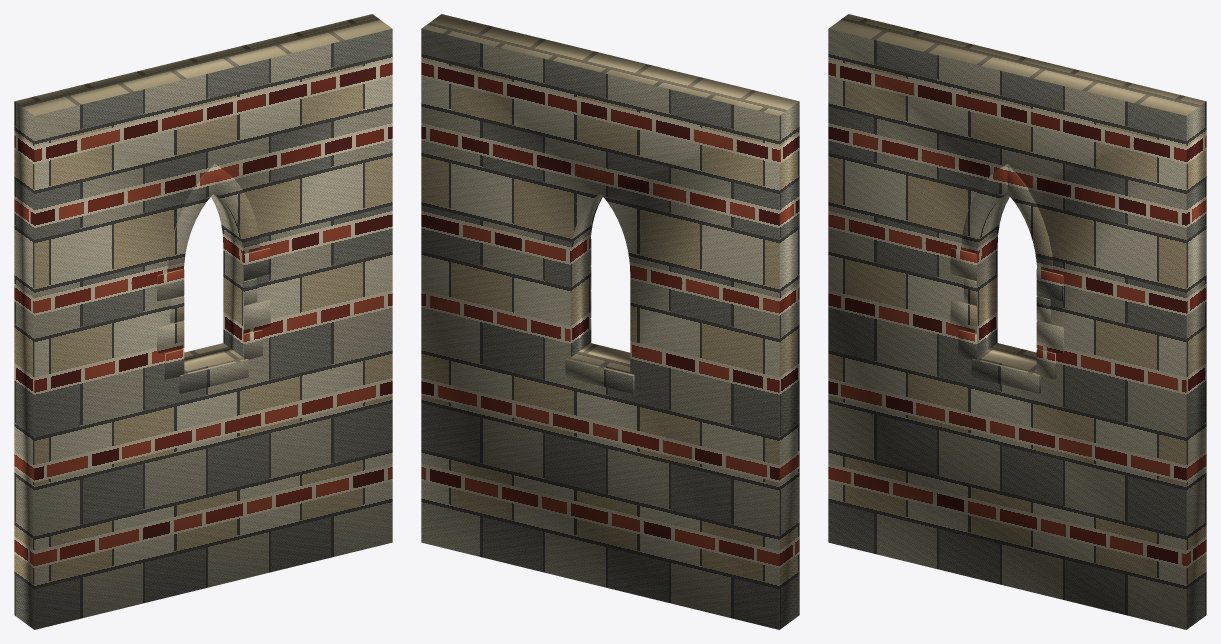
The model's file is byzantine new stone window.glb.
3 views of the same model, side by side, from view 1: azimuth 30°, elevation 25°; view 2: azimuth 150°, elevation 25°; view 3: azimuth 330°, elevation 25° (orthographic).
Parts seen in each view (by area): view 1: ByzSwap_new_stone_window_Wall, WIndow - Arch; view 2: ByzSwap_new_stone_window_Wall, WIndow - Arch; view 3: ByzSwap_new_stone_window_Wall, WIndow - Arch.
Part boxes in pixels (x1,y1,x2,y2): ByzSwap_new_stone_window_Wall, WIndow - Arch: [14, 14, 392, 629]; ByzSwap_new_stone_window_Wall, WIndow - Arch: [421, 14, 799, 629]; ByzSwap_new_stone_window_Wall, WIndow - Arch: [828, 14, 1206, 629].
Bounding box in the file's own units: 2 × 2.74 × 0.225.
3 materials, 3 textured.
